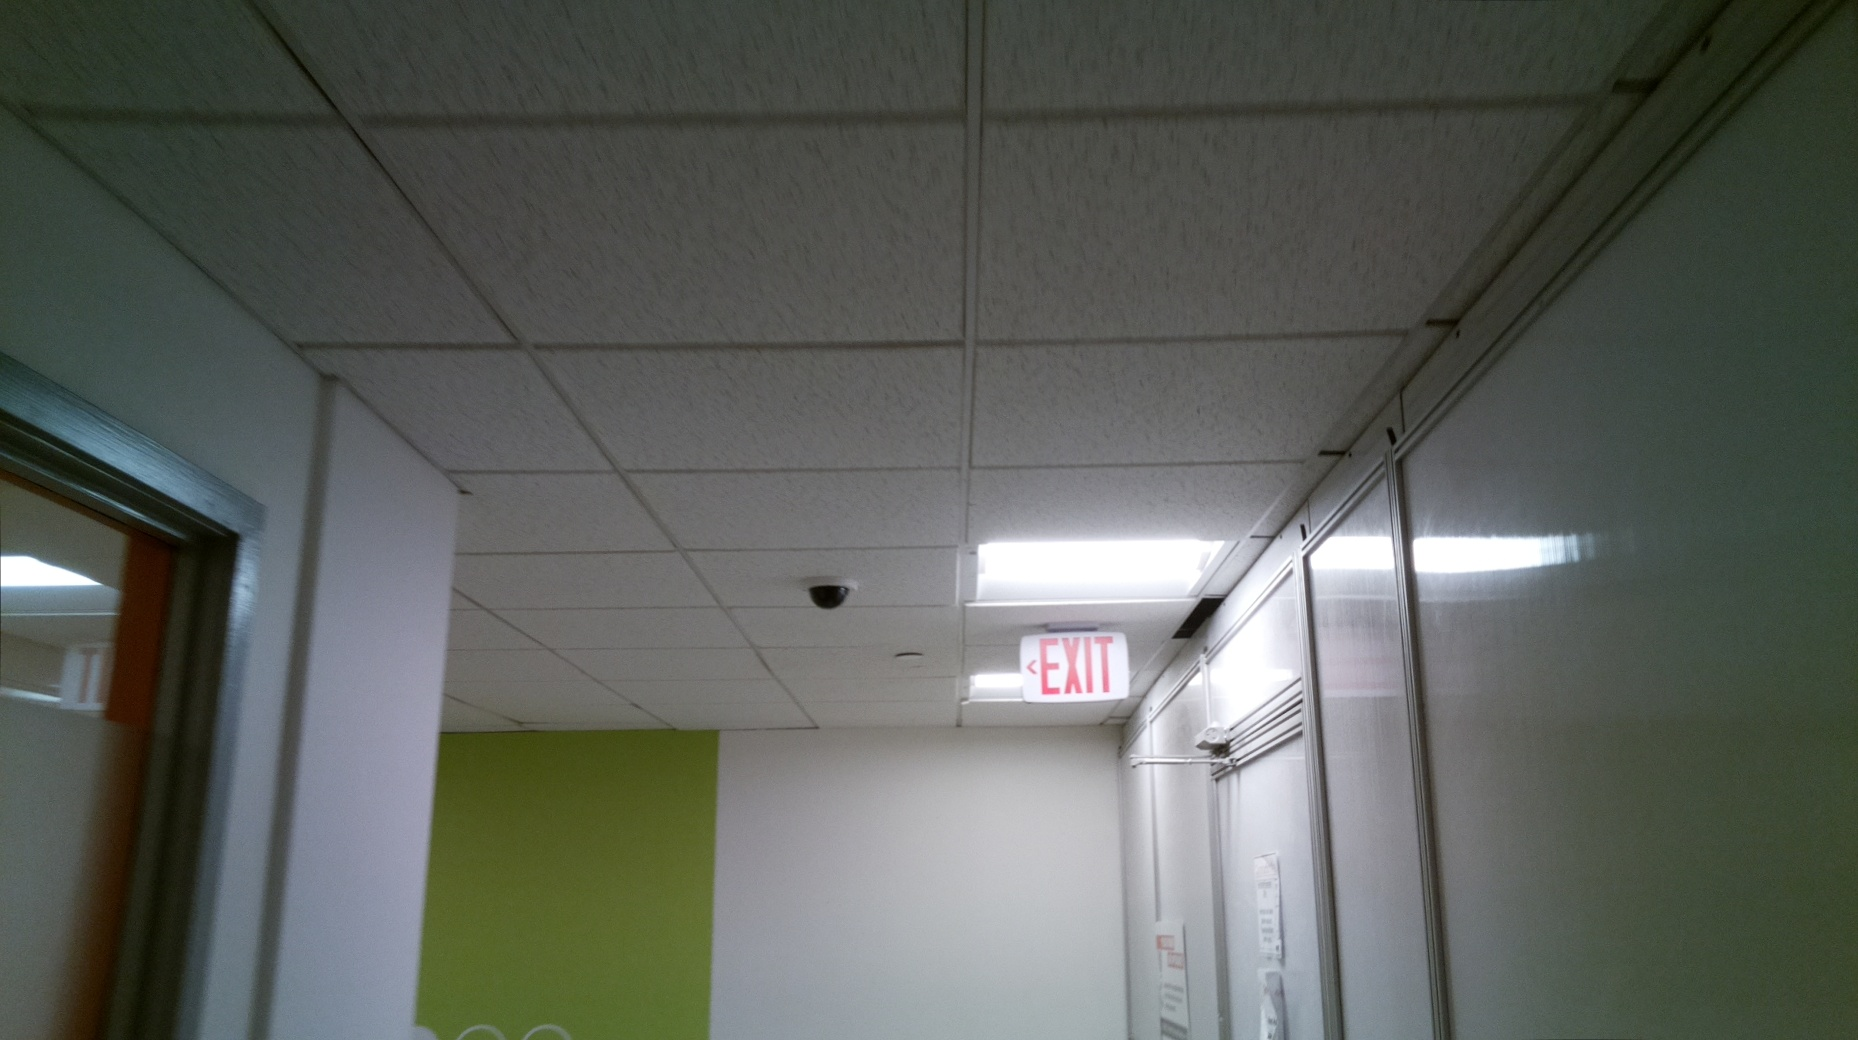exit sign: (1016, 624, 1136, 709)
